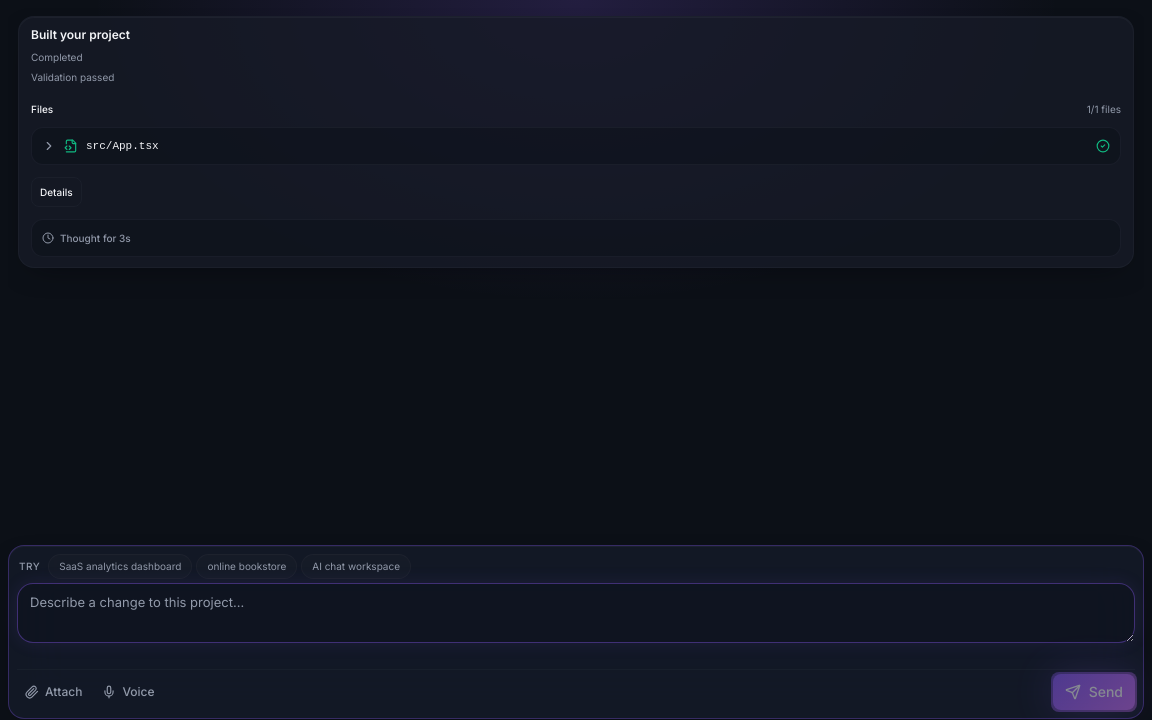
Test: activity details and preview › shows file content from the stored version snapshot
The width and height of the screenshot is (1152, 720).
Click the button with aria-label "Show details for src/App.tsx".
click(122, 146)  # box 32,128 -> 1120,164
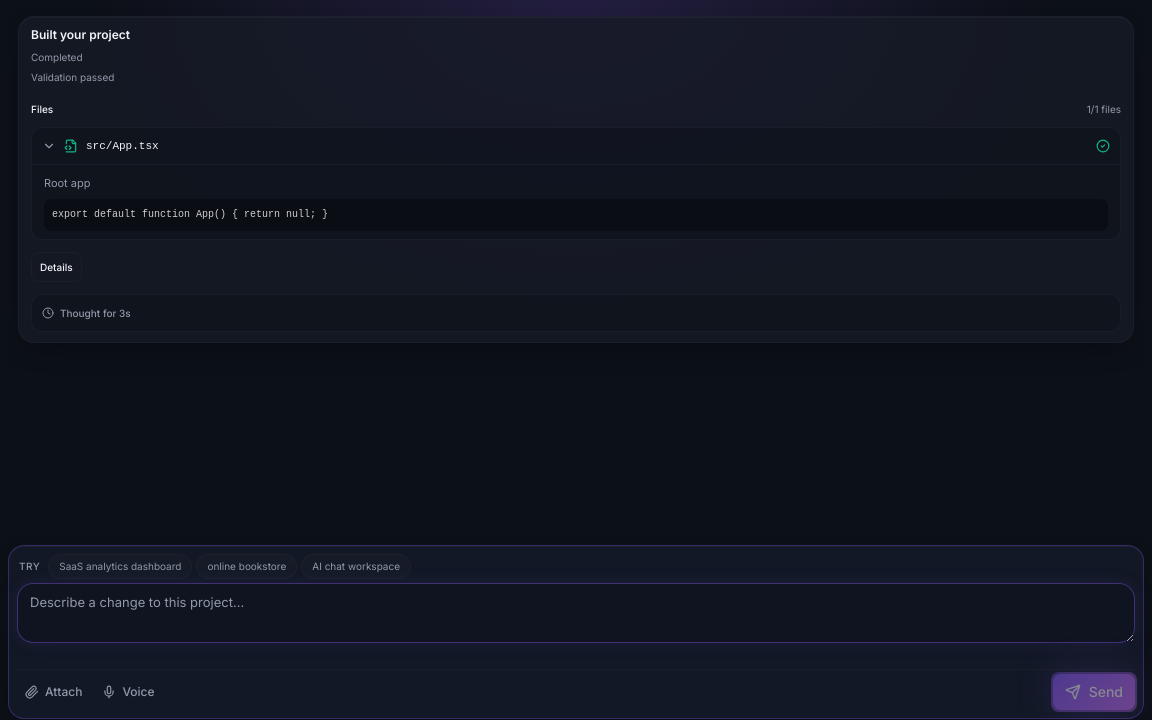
Result: the text "export default function App() { return null; }" is shown at 44,199 -> 1108,231
